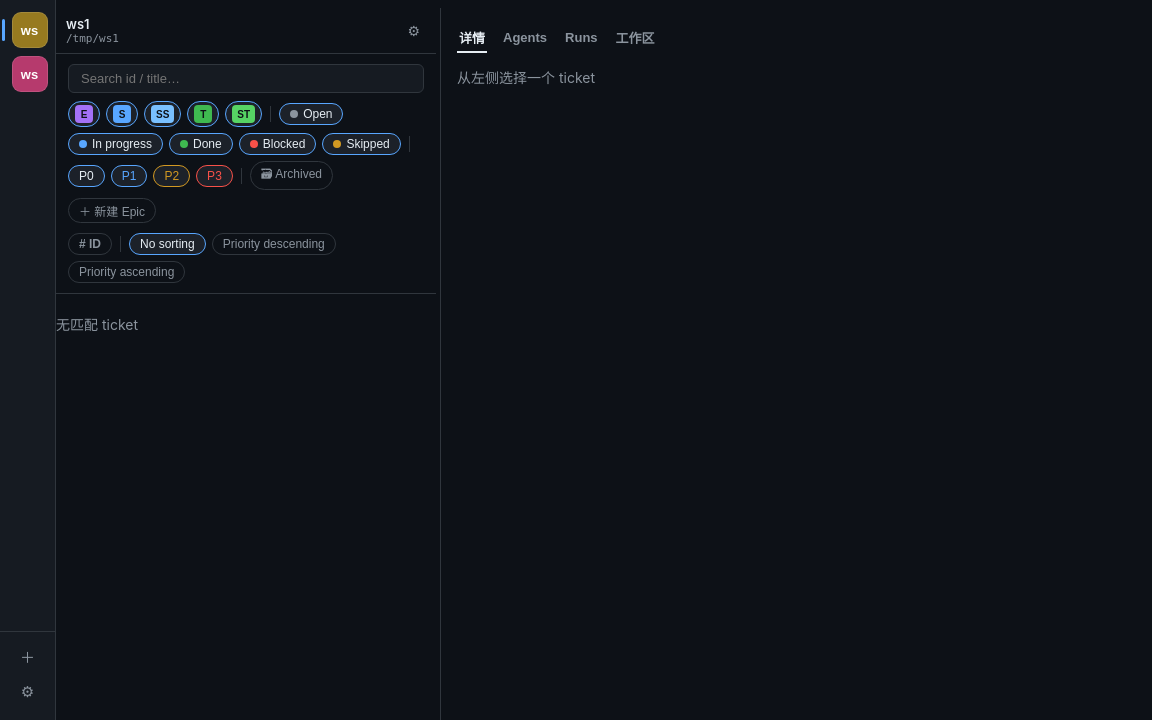
Test: U1 添加弹窗候选（F-TERM-5） › 候选 = known-homes 未收录条目 + daemon 已开但不在图标栏的 home；已在列表里的不重复显示
Step 1. Click the button titled "添加工作区" → [28, 656], box [12,640,44,672]
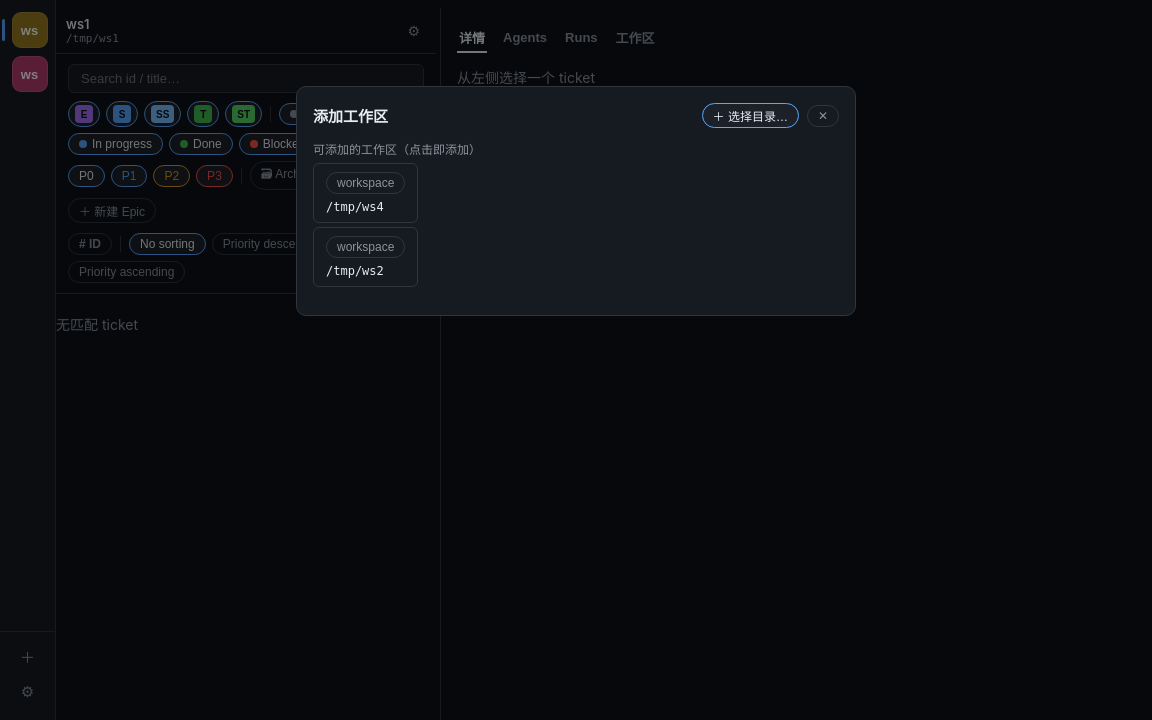
Check: the heading "可添加的工作区（点击即添加）" is shown, box [313,142,481,157]
Check: the text "/tmp/ws4" is shown
Check: the text "/tmp/ws2" is shown, box [326,264,384,278]
// 点 daemon 已开的 ws4：声明幂等返回现有 home，收录并切换
Step 2. Click the text "/tmp/ws4" → [355, 207], box [326,200,384,214]
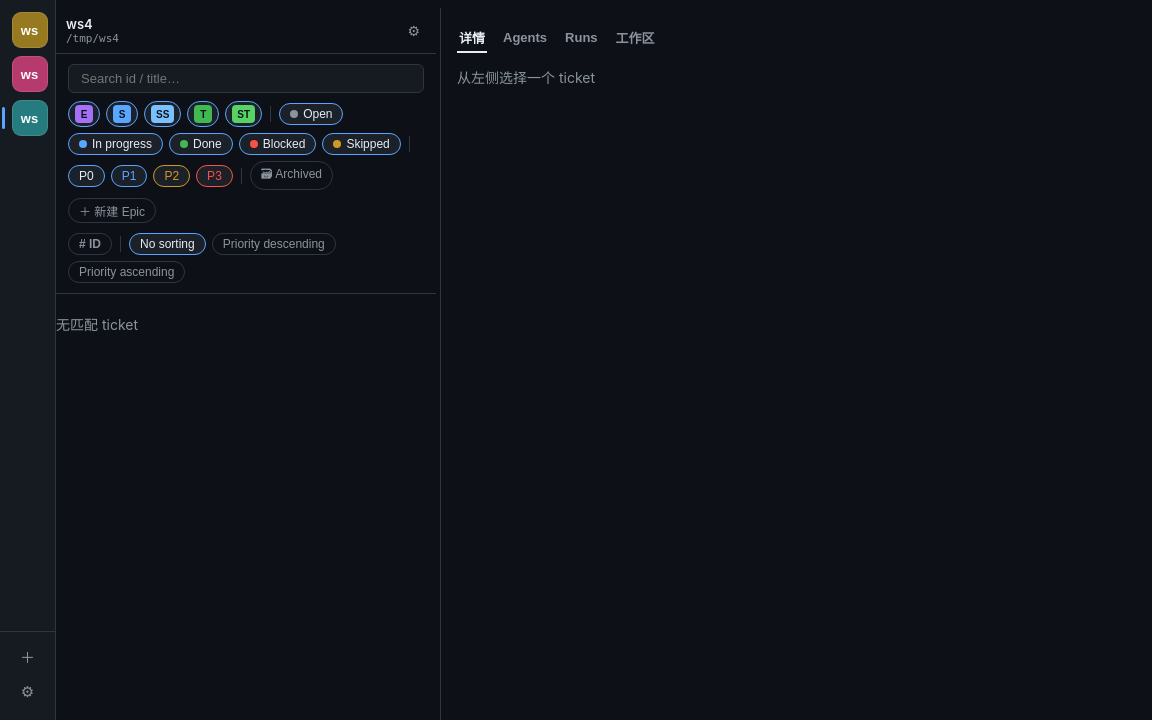
Check: the text with class "workspace-name" reads "ws4", box [66,16,93,32]
